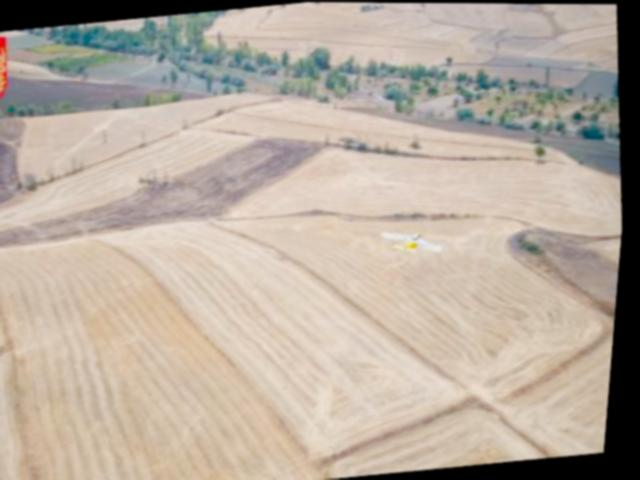uav: (381, 220, 455, 263)
